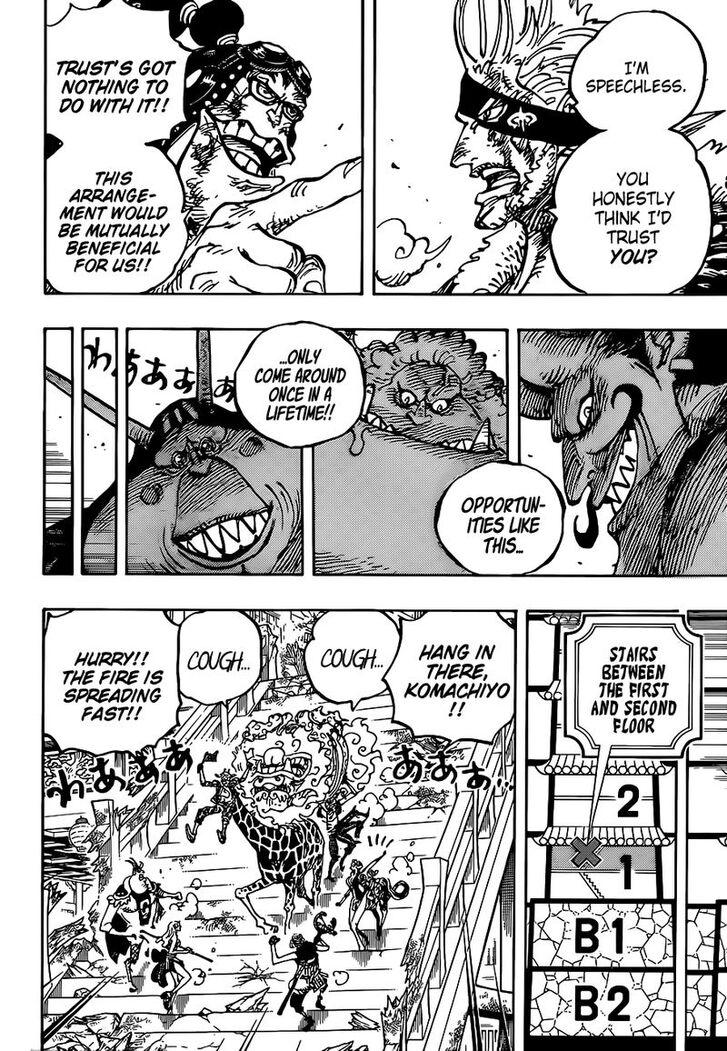Bubble: (547, 131, 714, 295), (42, 145, 191, 296), (40, 607, 181, 762), (564, 610, 705, 761), (43, 0, 195, 140), (394, 608, 518, 747), (234, 321, 366, 450), (567, 7, 708, 127), (434, 459, 566, 577), (302, 607, 390, 706), (184, 607, 265, 707)
